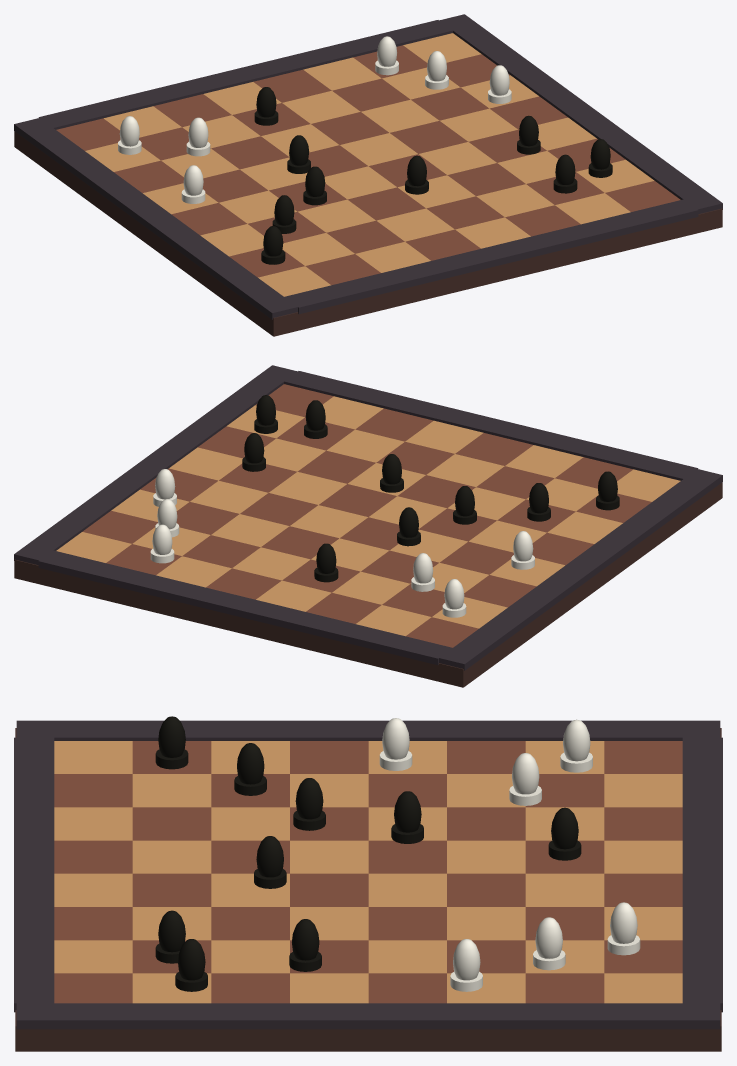
Rendered from CMU3DMaterialLeisureChessboardCloud.glb.
3 views of the same model, one above another, from view 1: azimuth 30°, elevation 25°; view 2: azimuth 150°, elevation 25°; view 3: azimuth 270°, elevation 25° (orthographic). The views are drawn at different scales.
Visible parts, largest first — view 1: wooden board thickness, board end border, board side border, board side border member 2, board end border member 2, inlaid square 3 2, inlaid square 2 5, inlaid square 5 6, inlaid square 5 7, inlaid square 2 1, inlaid square 3 1, inlaid square 4 1 (+68 smaller); view 2: wooden board thickness, board end border member 2, board side border, board side border member 2, board end border, inlaid square 2 0, inlaid square 5 0, inlaid square 5 1, inlaid square 3 0, inlaid square 4 0, inlaid square 5 2, inlaid square 2 6 (+68 smaller); view 3: board side border member 2, wooden board thickness, board side border, board end border, board end border member 2, inlaid square 2 1, inlaid square 1 1, inlaid square 3 1, inlaid square 4 1, inlaid square 4 6, inlaid square 1 0, inlaid square 2 0 (+72 smaller).
Part boxes in pixels (x1,y1,x2,y2): wooden board thickness: (14, 131, 722, 336); board end border: (284, 199, 698, 314); board side border: (14, 118, 297, 319); board side border member 2: (439, 14, 722, 214); board end border member 2: (38, 20, 452, 129); inlaid square 3 2: (347, 187, 425, 220); inlaid square 2 5: (211, 136, 289, 169); inlaid square 5 6: (332, 78, 410, 111); inlaid square 5 7: (303, 57, 381, 90); inlaid square 2 1: (326, 220, 404, 253); inlaid square 3 1: (376, 208, 454, 241); inlaid square 4 1: (426, 196, 504, 229); wooden board thickness: (14, 482, 722, 687); board end border member 2: (38, 550, 452, 665); board side border: (439, 469, 722, 670); board side border member 2: (14, 365, 297, 565); board end border: (284, 371, 698, 480); inlaid square 2 0: (505, 445, 583, 478); inlaid square 5 0: (355, 408, 433, 441); inlaid square 5 1: (326, 429, 404, 462); inlaid square 3 0: (455, 433, 533, 465); inlaid square 4 0: (405, 420, 483, 453); inlaid square 5 2: (297, 450, 375, 483); inlaid square 2 6: (332, 571, 410, 604); board side border member 2: (16, 1003, 720, 1029); wooden board thickness: (15, 728, 721, 1051); board side border: (16, 720, 720, 740); board end border: (14, 737, 54, 1012); board end border member 2: (682, 737, 722, 1012); inlaid square 2 1: (132, 807, 211, 840); inlaid square 1 1: (132, 774, 211, 807); inlaid square 3 1: (132, 840, 211, 873); inlaid square 4 1: (132, 873, 211, 906); inlaid square 4 6: (525, 873, 604, 906); inlaid square 1 0: (54, 774, 132, 807); inlaid square 2 0: (54, 807, 132, 840).
Bounding box in the file's own units: 0.564 × 0.065 × 0.564.
